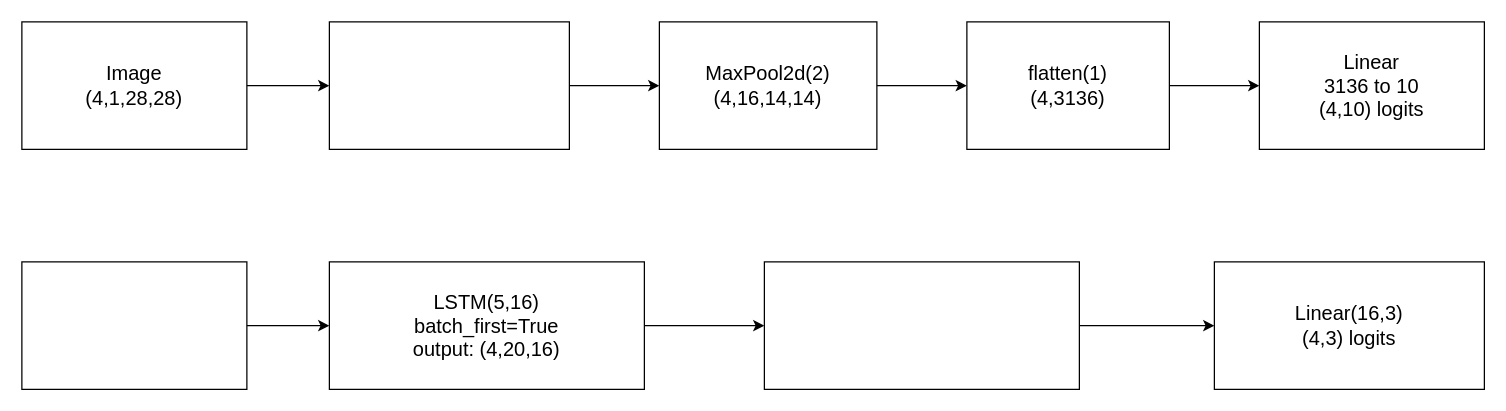
Image size: 1506x411. Some labels were removed from this diagram. Each missing label, with the box of its shape:
Conv2d + BN ReLU (4,16,28,28): (328, 21, 569, 149)
output[:, -1, :] last time step (4,16): (763, 261, 1079, 389)
Sequence (4,20,5): (21, 261, 247, 389)
